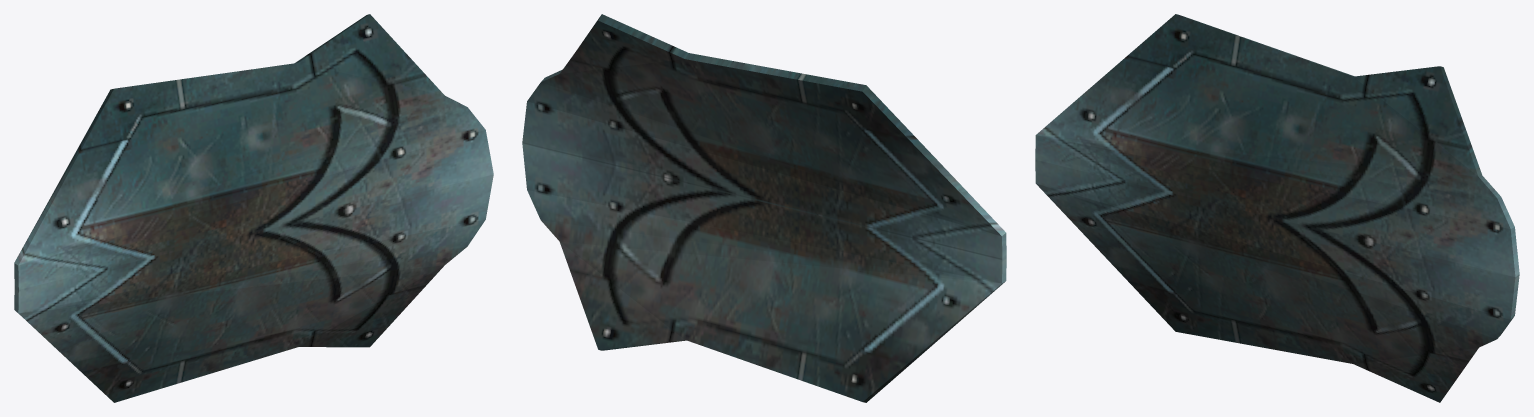
3 views of the same model, side by side, from view 1: azimuth 30°, elevation 25°; view 2: azimuth 150°, elevation 25°; view 3: azimuth 330°, elevation 25° (orthographic).
Parts seen in each view (by area): view 1: it10671; view 2: it10671; view 3: it10671.
Boxes of the visible parts, x1,y1,x2,y2 form: it10671: (14,14,493,402); it10671: (522,14,1006,402); it10671: (1035,14,1519,402).
Bounding box in the file's own units: 2 × 1.34 × 0.2065.
1 material, 1 textured.
